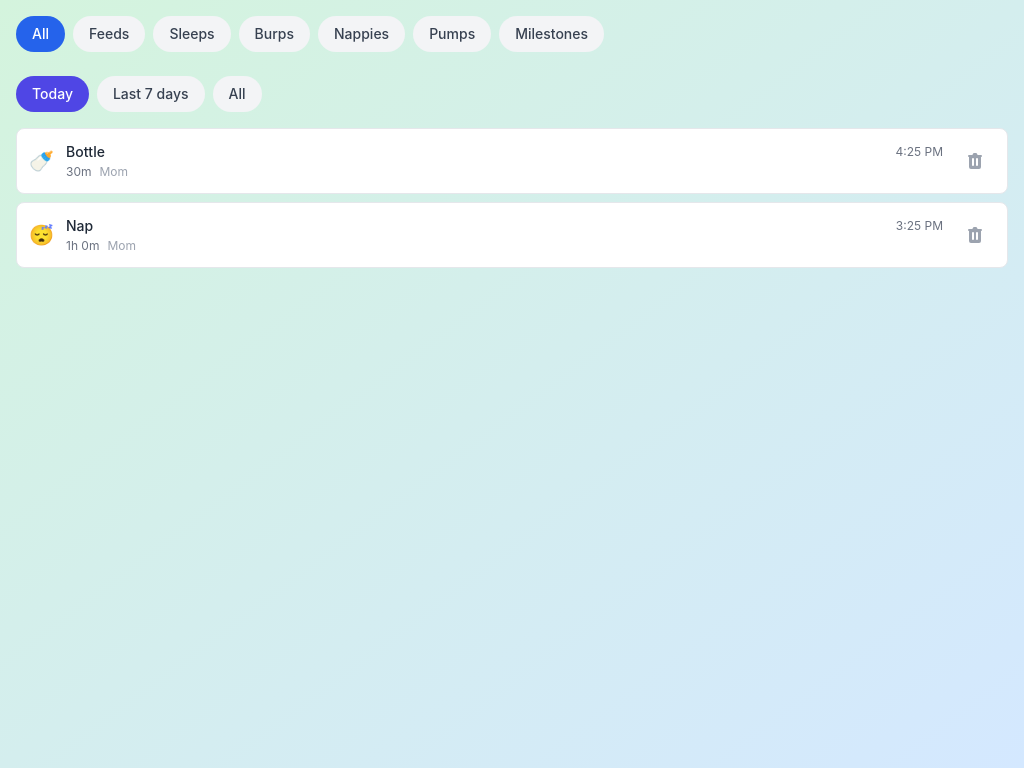
History — type filter › filters to show only sleep events when Sleeps is clicked
The width and height of the screenshot is (1024, 768).
Check: the text "Bottle" is shown, box [66,142,105,162]
Click the button "Sleeps": (192, 34) [153,16,231,52]
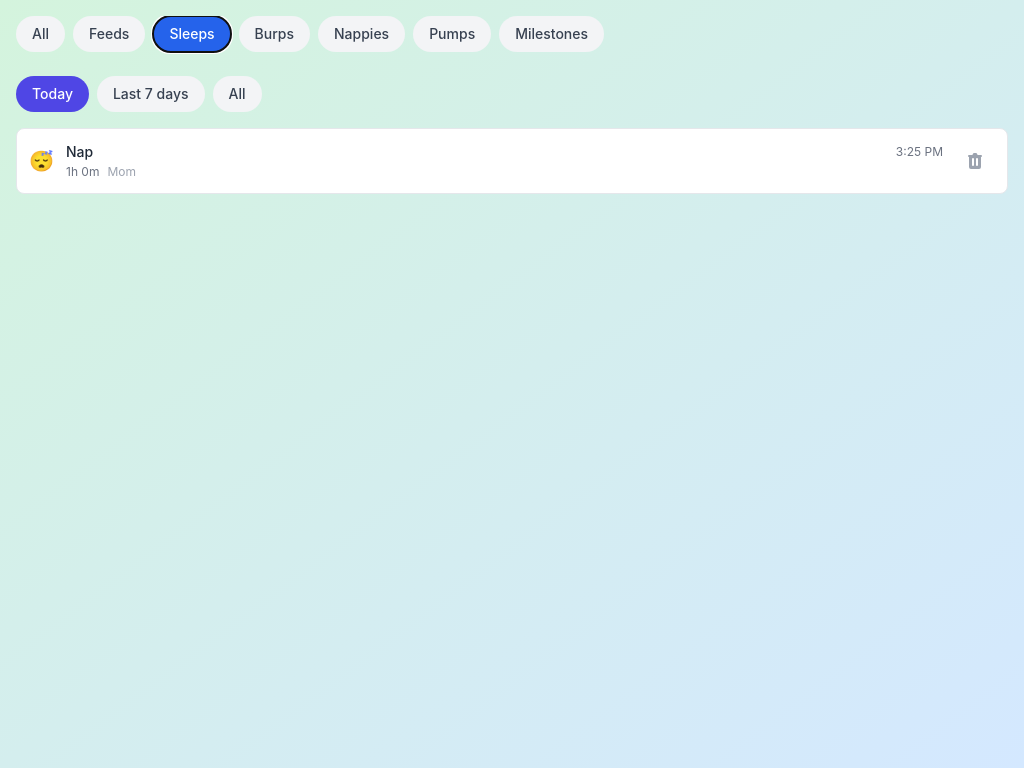
Check: the text "Nap" is shown, box [66,142,93,162]
Check: the button "Bottle" is gone
